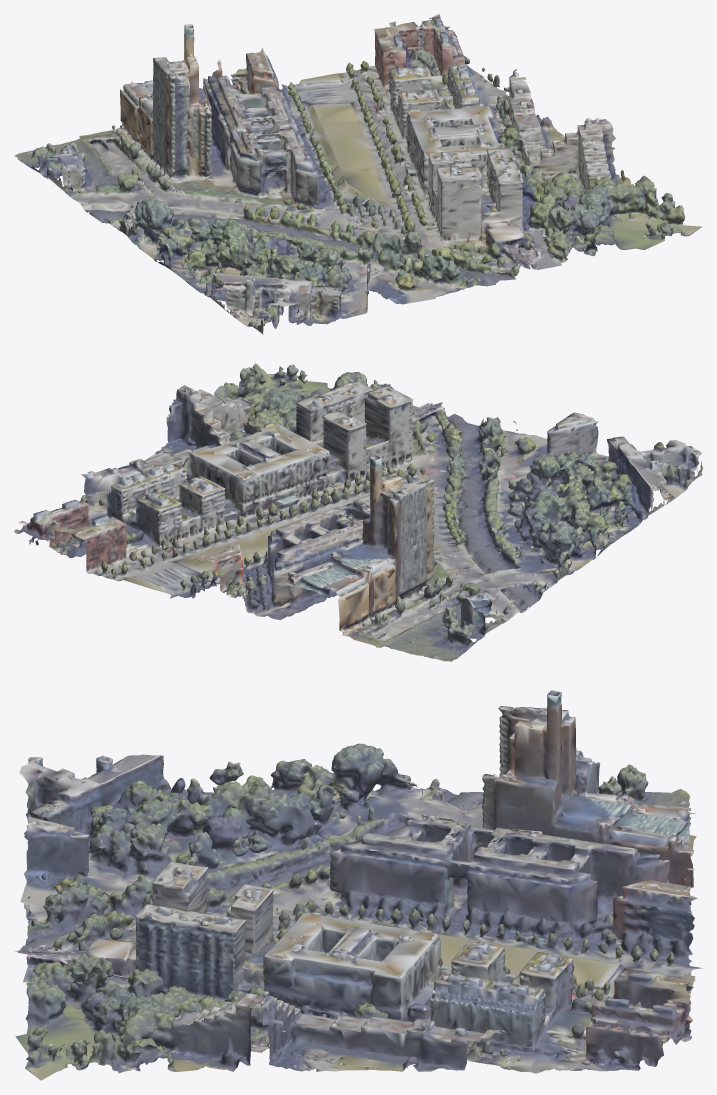
File: surface-detail-3894_58182.glb
3 views of the same model, one above another, from view 1: azimuth 30°, elevation 25°; view 2: azimuth 150°, elevation 25°; view 3: azimuth 270°, elevation 25° (orthographic). The views are drawn at different scales.
Parts seen in each view (by area): view 1: world; view 2: world; view 3: world.
Part boxes in pixels (x1=…): world: x1=14, y1=14, x2=702, y2=334; world: x1=14, y1=363, x2=702, y2=661; world: x1=15, y1=690, x2=702, y2=1080.
Size of the model in its own units: 373 by 114 by 376.
